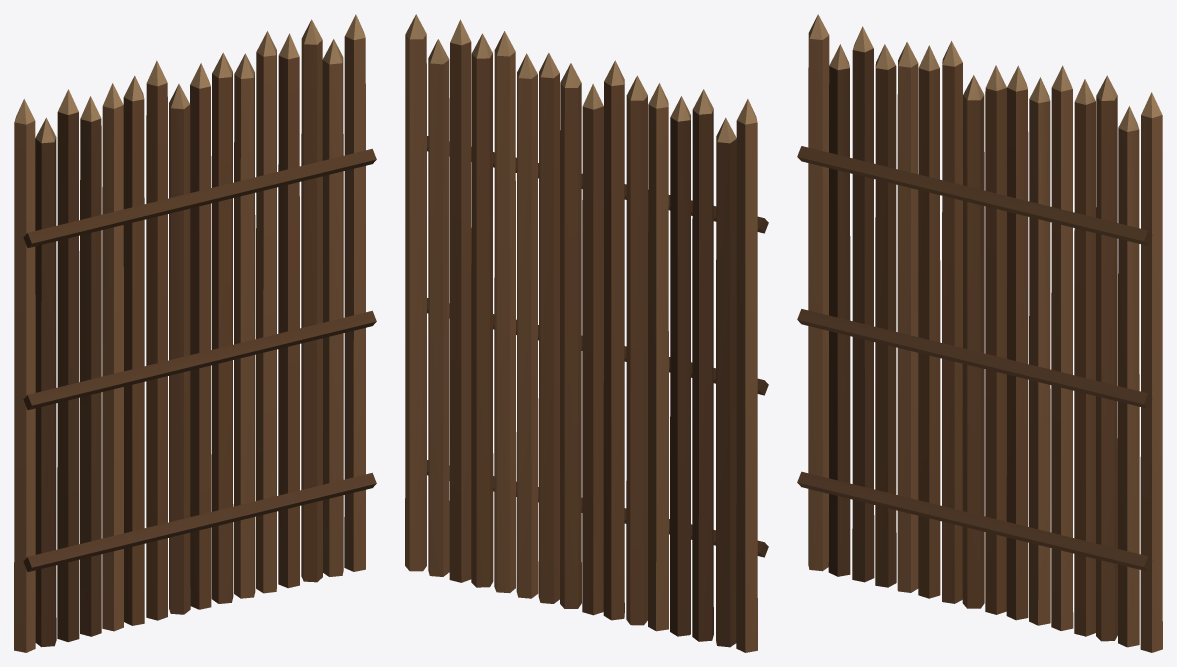
Rendered from fence_palisade_tall_low.glb.
3 views of the same model, side by side, from view 1: azimuth 30°, elevation 25°; view 2: azimuth 150°, elevation 25°; view 3: azimuth 330°, elevation 25° (orthographic).
Visible parts, largest first — view 1: fence_palisade_tall; view 2: fence_palisade_tall; view 3: fence_palisade_tall.
Part boxes in pixels (x1,y1,x2,y2): fence_palisade_tall: (14,14,376,652); fence_palisade_tall: (405,14,768,652); fence_palisade_tall: (797,14,1162,652).
Size of the model in its own units: 2.38 by 3.62 by 0.236.
